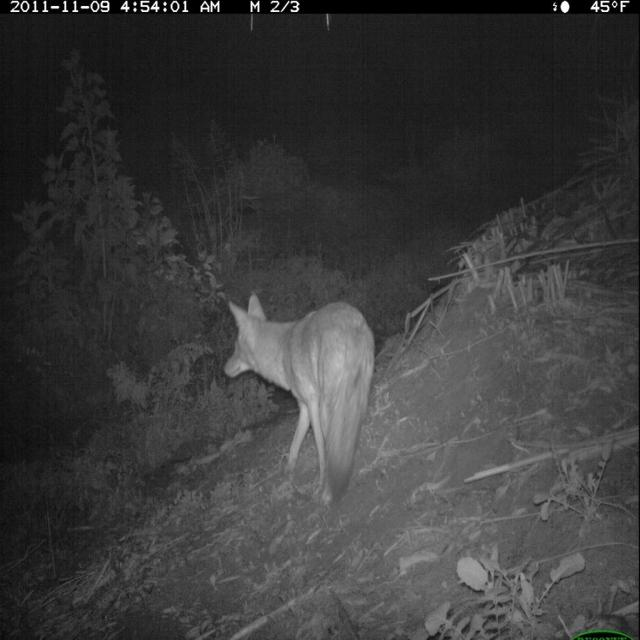coyote: (218, 284, 383, 513)
